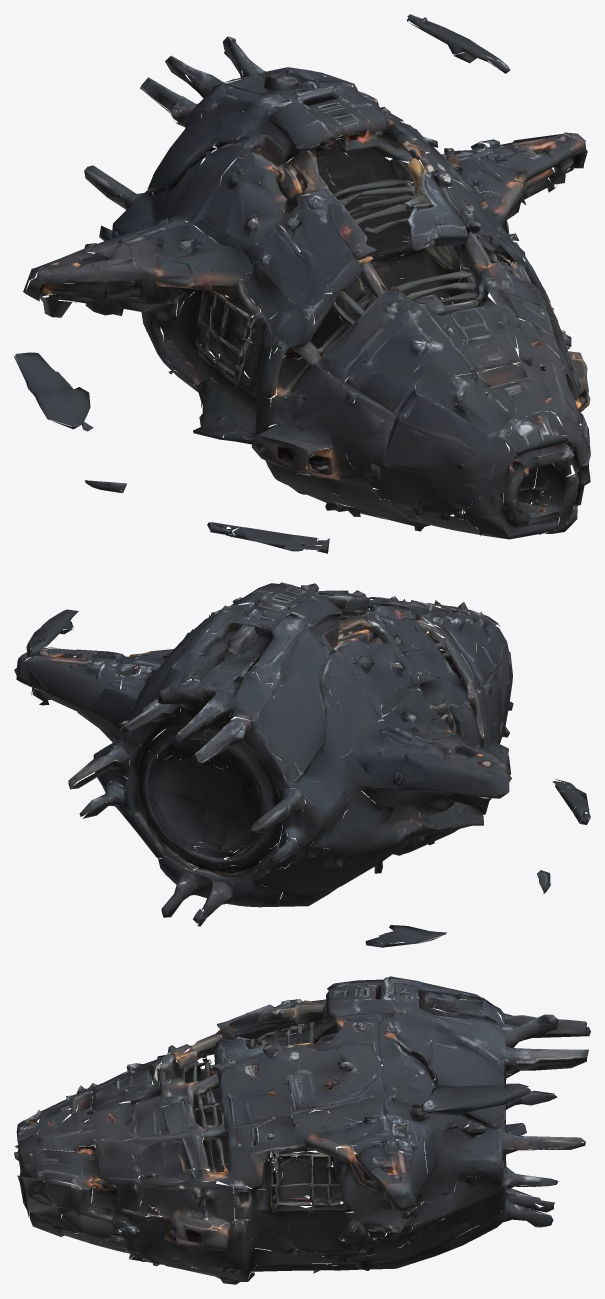
The model's file is wreck.glb.
3 renders of one model, top to bottom at view 1: azimuth 30°, elevation 25°; view 2: azimuth 150°, elevation 25°; view 3: azimuth 270°, elevation 25°, orthographic. The views are drawn at different scales.
Parts seen in each view (by area): view 1: tripo_node_986a1671-505a-45a1-89e3-7f5af0632f7f; view 2: tripo_node_986a1671-505a-45a1-89e3-7f5af0632f7f; view 3: tripo_node_986a1671-505a-45a1-89e3-7f5af0632f7f.
Part boxes in pixels (x1,y1,x2,y2): tripo_node_986a1671-505a-45a1-89e3-7f5af0632f7f: (14,14,590,553); tripo_node_986a1671-505a-45a1-89e3-7f5af0632f7f: (14,582,590,947); tripo_node_986a1671-505a-45a1-89e3-7f5af0632f7f: (14,976,590,1284).
Size of the model in its own units: 171 by 101 by 190.
1 material, 1 textured.
